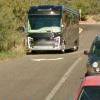Bus: (22, 2, 81, 57)
